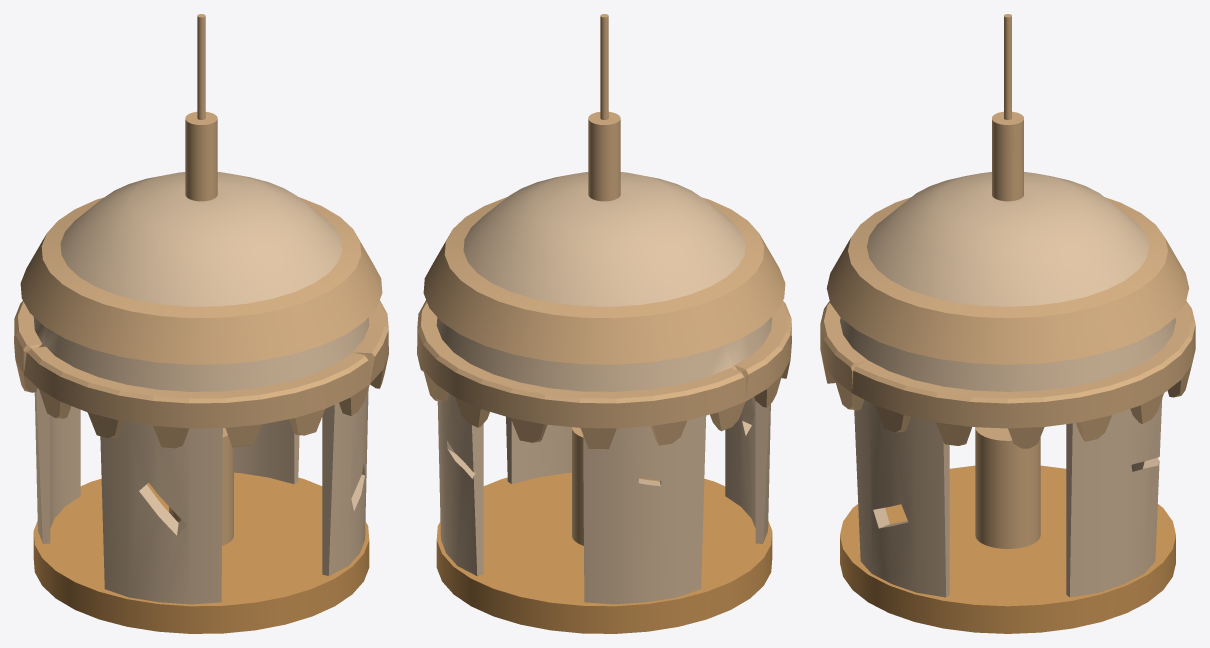
File: Building07.fbx
3 views of the same model, side by side, from view 1: azimuth 30°, elevation 25°; view 2: azimuth 150°, elevation 25°; view 3: azimuth 270°, elevation 25° (orthographic).
Visible parts, largest first — view 1: Building07; view 2: Building07; view 3: Building07.
Boxes of the visible parts, left/top/right/bottom form: Building07: left=14, top=14, right=388, bottom=633; Building07: left=417, top=14, right=791, bottom=633; Building07: left=820, top=14, right=1195, bottom=633.
Bounding box in the file's own units: 4.72 × 4.72 × 7.59.
